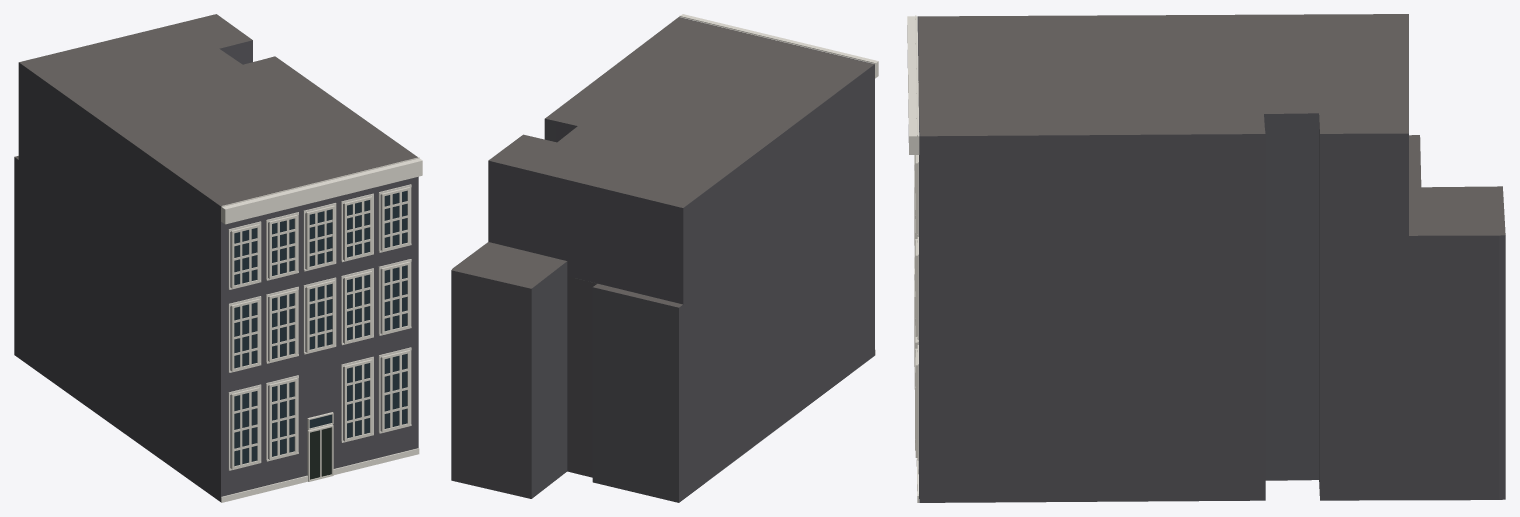
The picture shows the model from 3 angles, left to right: view 1: azimuth 30°, elevation 25°; view 2: azimuth 150°, elevation 25°; view 3: azimuth 270°, elevation 25°; orthographic projection. The views are drawn at different scales.
Parts seen in each view (by area): view 1: spec-0363100012176490; view 2: spec-0363100012176490; view 3: spec-0363100012176490.
Boxes of the visible parts, left/top/right/bottom form: spec-0363100012176490: left=14, top=14, right=422, bottom=502; spec-0363100012176490: left=451, top=14, right=878, bottom=502; spec-0363100012176490: left=907, top=14, right=1505, bottom=502.
Size of the model in its own units: 11.3 by 15.83 by 23.35.
